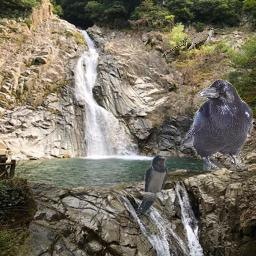Crow: (180, 78, 253, 171)
Cuckoo: (162, 27, 216, 56)
Swallow: (137, 155, 168, 213)
